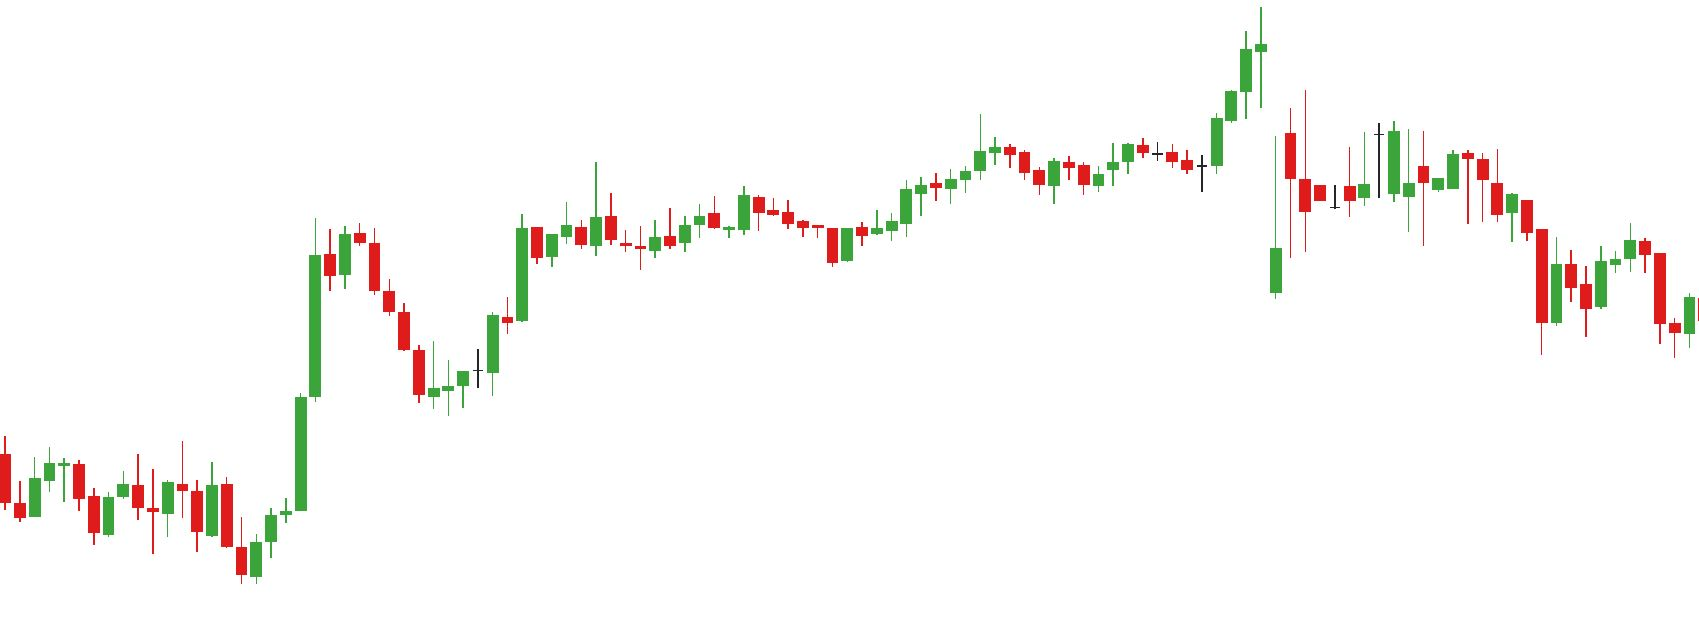buy: (146, 490, 263, 589)
